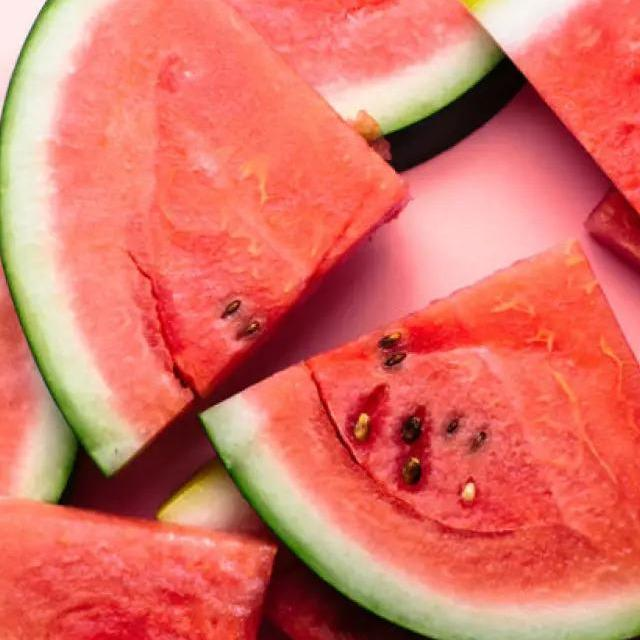watermelon: (0, 0, 403, 470)
